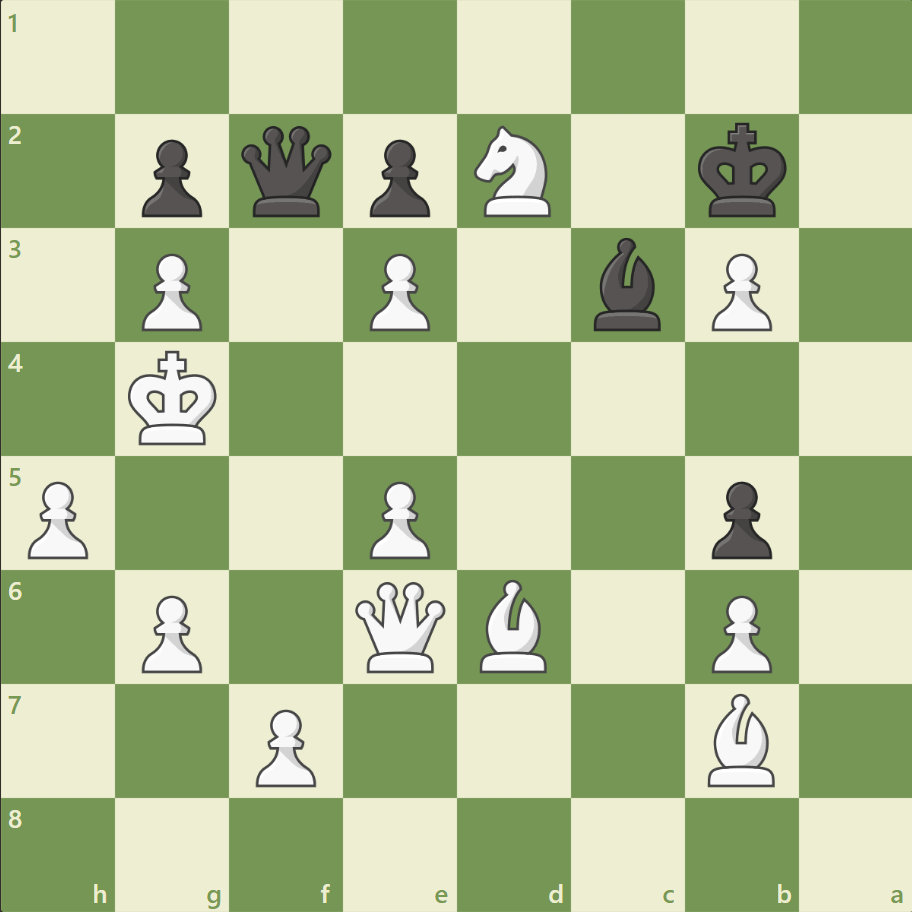B: (698, 687, 782, 790), (471, 574, 555, 676)
K: (124, 344, 224, 452)
N: (465, 121, 562, 223)
P: (247, 700, 322, 791), (701, 586, 776, 677), (133, 586, 208, 677), (20, 473, 95, 564), (701, 246, 776, 337), (133, 246, 208, 337), (361, 473, 435, 564), (361, 246, 435, 337)
Q: (351, 576, 450, 676)
b: (585, 233, 669, 336)
k: (692, 117, 792, 225)
p: (701, 473, 776, 564), (133, 132, 208, 223), (361, 132, 435, 223)
q: (237, 122, 336, 222)
